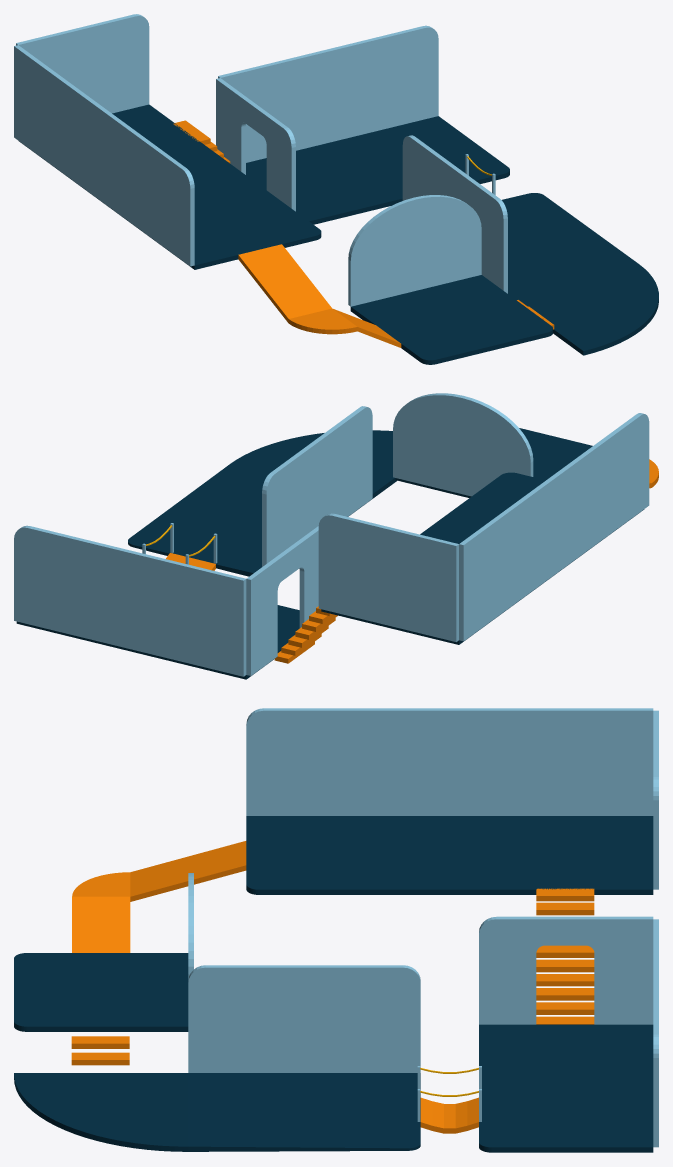
Rendered from stanze.glb.
The picture shows the model from 3 angles, top to bottom: view 1: azimuth 30°, elevation 25°; view 2: azimuth 150°, elevation 25°; view 3: azimuth 270°, elevation 25°; orthographic projection. The views are drawn at different scales.
Visible parts, largest first — view 1: Cube.017, Cube.015, Cube.024, Cube.006, Cube, Cube.025, Cube.002, Cube.018, Cube.014, Cube.007, Cube.016, Cube.004; view 2: Cube.015, Cube.017, Cube.018, Cube.024, Cube.025, Cube.014, Cube.016, Cube, Cube.002, Cube.006, Cube.004; view 3: Cube.017, Cube, Cube.024, Cube.014, Cube.006, Cube.016, Cube.002, Cube.007, Cube.004, Cube.003, Cube.001, Cube.015 (+1 smaller).
Boxes of the visible parts, x1=… form: Cube.017: x1=14, y1=45, x2=194, y2=266; Cube.015: x1=218, y1=25, x2=438, y2=162; Cube.024: x1=502, y1=193, x2=658, y2=355; Cube.006: x1=246, y1=116, x2=509, y2=224; Cube: x1=19, y1=104, x2=321, y2=269; Cube.025: x1=348, y1=195, x2=481, y2=306; Cube.002: x1=350, y1=275, x2=552, y2=364; Cube.018: x1=16, y1=14, x2=149, y2=113; Cube.014: x1=402, y1=135, x2=507, y2=293; Cube.007: x1=238, y1=244, x2=401, y2=347; Cube.016: x1=216, y1=78, x2=295, y2=211; Cube.004: x1=173, y1=120, x2=230, y2=163; Cube.015: x1=14, y1=525, x2=246, y2=676; Cube.017: x1=459, y1=413, x2=649, y2=641; Cube.018: x1=318, y1=513, x2=458, y2=641; Cube.024: x1=128, y1=430, x2=396, y2=576; Cube.025: x1=393, y1=393, x2=533, y2=496; Cube.014: x1=262, y1=406, x2=372, y2=566; Cube.016: x1=246, y1=526, x2=318, y2=675; Cube: x1=321, y1=472, x2=644, y2=644; Cube.002: x1=395, y1=428, x2=592, y2=497; Cube.006: x1=16, y1=605, x2=299, y2=679; Cube.004: x1=274, y1=606, x2=337, y2=663; Cube.017: x1=246, y1=708, x2=653, y2=815; Cube: x1=246, y1=816, x2=653, y2=894; Cube.024: x1=14, y1=1073, x2=420, y2=1151; Cube.014: x1=188, y1=965, x2=420, y2=1072; Cube.006: x1=479, y1=1024, x2=653, y2=1152; Cube.016: x1=479, y1=916, x2=653, y2=1024; Cube.002: x1=14, y1=953, x2=188, y2=1031; Cube.007: x1=72, y1=841, x2=246, y2=952; Cube.004: x1=536, y1=888, x2=594, y2=1024; Cube.003: x1=420, y1=1097, x2=478, y2=1133; Cube.001: x1=71, y1=1036, x2=129, y2=1065; Cube.015: x1=653, y1=919, x2=658, y2=1147.
Bounding box in the file's own units: 9.73 × 4.02 × 11.1.
